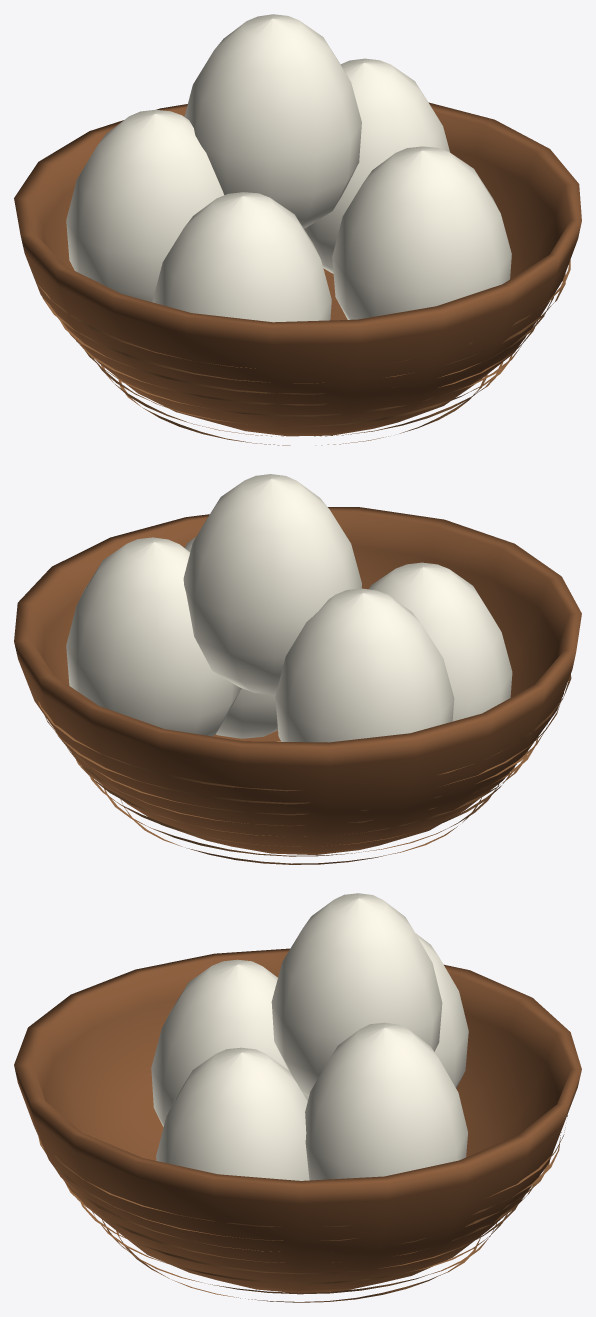
File: fah.fbx
The picture shows the model from 3 angles, top to bottom: view 1: azimuth 30°, elevation 25°; view 2: azimuth 150°, elevation 25°; view 3: azimuth 270°, elevation 25°; orthographic projection.
Visible parts, largest first — view 1: mangkuk_telur_low_poly; view 2: mangkuk_telur_low_poly; view 3: mangkuk_telur_low_poly.
Part boxes in pixels (x1,y1,x2,y2): mangkuk_telur_low_poly: (14, 14, 581, 445); mangkuk_telur_low_poly: (14, 474, 581, 864); mangkuk_telur_low_poly: (14, 893, 581, 1302).
Bounding box in the file's own units: 426 × 290 × 426.
